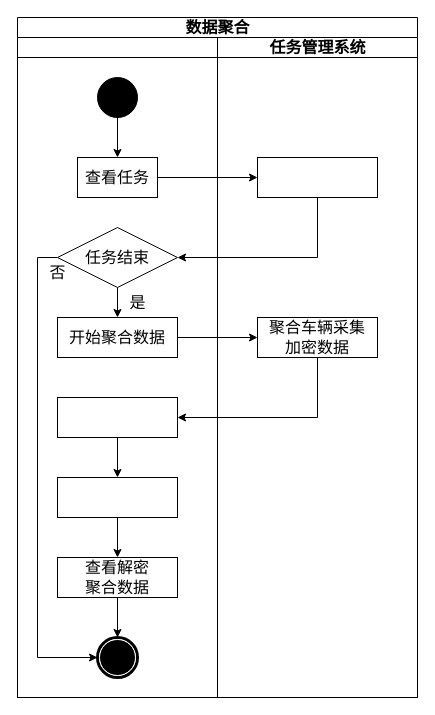
The diagram is 435 pixels wide and 715 high, and some of its shapes have lost their labels. Here are the shapes that lost their labels. From the top down, the box of each, then its label:
(256, 156, 378, 198): 获取任务详情
(16, 36, 218, 698): 任务请求者
(56, 396, 178, 438): 查看加密 聚合 数据
(56, 476, 178, 518): 使用私钥解密
